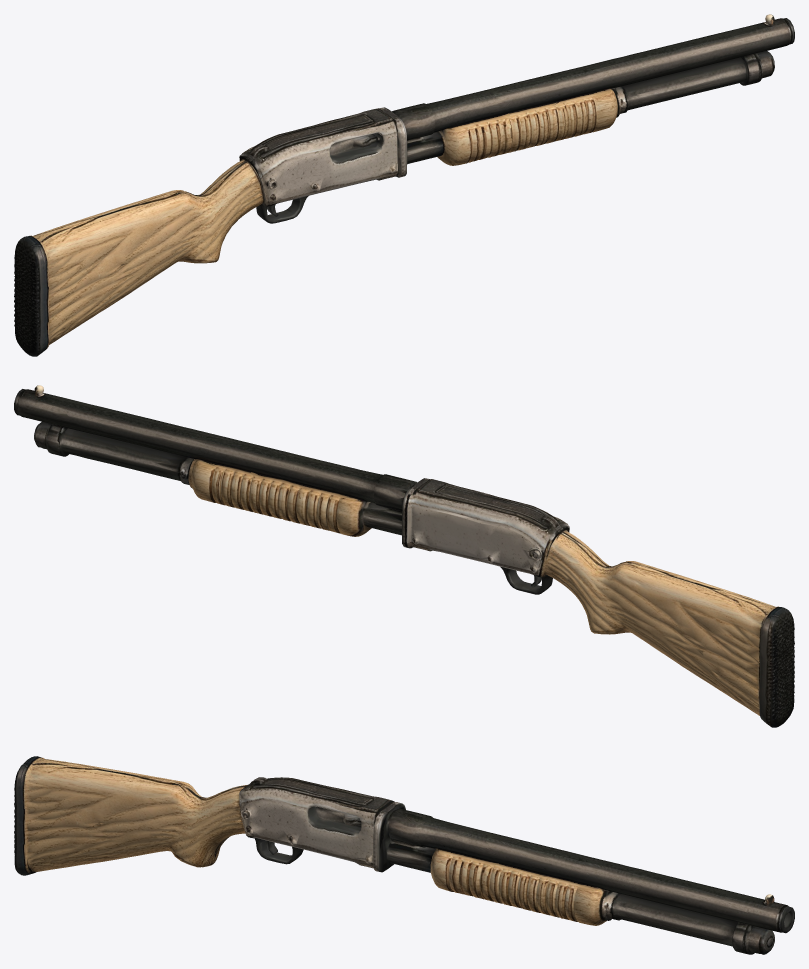
The model's file is shotgun.glb.
3 views of the same model, one above another, from view 1: azimuth 30°, elevation 25°; view 2: azimuth 150°, elevation 25°; view 3: azimuth 330°, elevation 25° (orthographic).
Parts seen in each view (by area): view 1: tripo_node_83913d03-c1a3-45f9-888a-72236d1fbeae; view 2: tripo_node_83913d03-c1a3-45f9-888a-72236d1fbeae; view 3: tripo_node_83913d03-c1a3-45f9-888a-72236d1fbeae.
Boxes of the visible parts, x1,y1,x2,y2 form: tripo_node_83913d03-c1a3-45f9-888a-72236d1fbeae: [14, 14, 794, 356]; tripo_node_83913d03-c1a3-45f9-888a-72236d1fbeae: [14, 385, 794, 727]; tripo_node_83913d03-c1a3-45f9-888a-72236d1fbeae: [14, 756, 794, 954].
Bounding box in the file's own units: 0.9845 × 0.1954 × 0.0638.
1 material, 1 textured.
